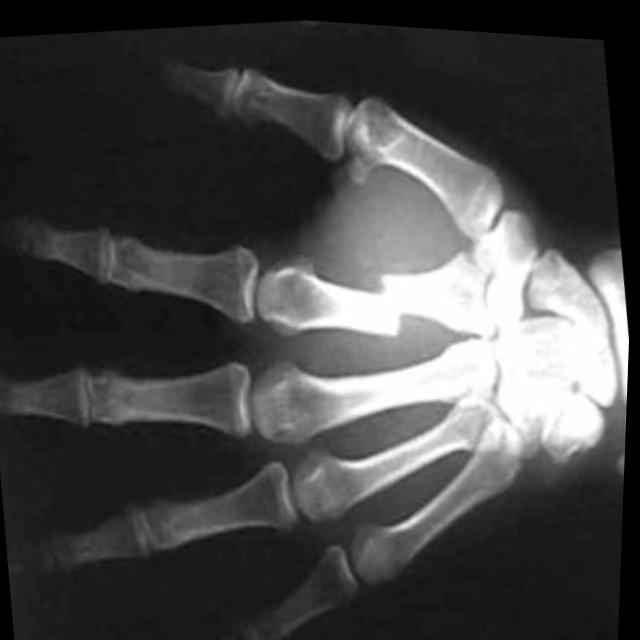fracture: (367, 251, 415, 343)
